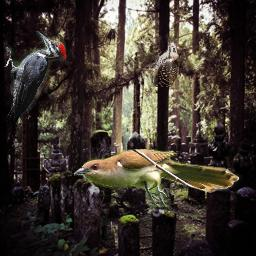Cuckoo: (74, 149, 240, 207)
Woodpecker: (4, 31, 66, 122), (145, 33, 181, 87)
